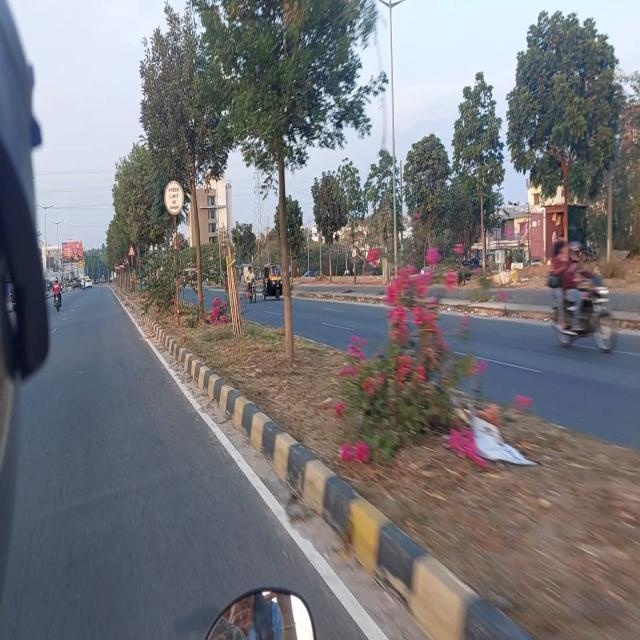bien_nguy_hiem: (163, 179, 185, 216)
